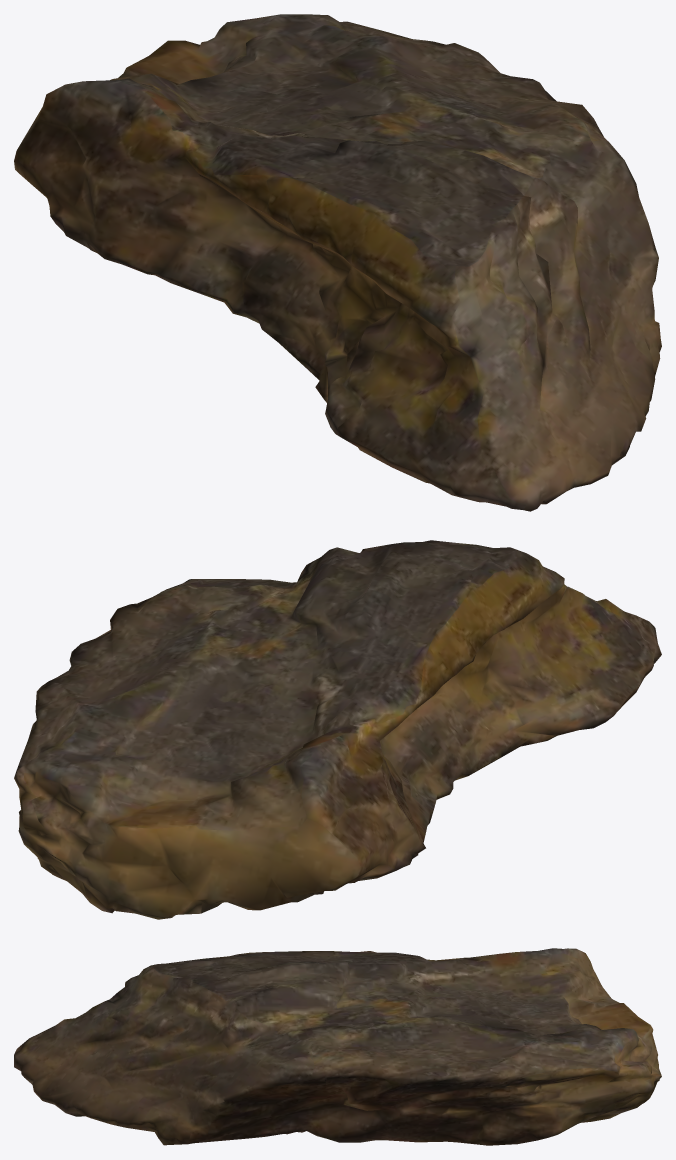
File: rock_09.glb
3 views of the same model, one above another, from view 1: azimuth 30°, elevation 25°; view 2: azimuth 150°, elevation 25°; view 3: azimuth 270°, elevation 25° (orthographic). The views are drawn at different scales.
Visible parts, largest first — view 1: rock_09_LOD0; view 2: rock_09_LOD0; view 3: rock_09_LOD0.
Part boxes in pixels (x1,y1,x2,y2): rock_09_LOD0: (14, 14, 661, 511); rock_09_LOD0: (14, 540, 661, 919); rock_09_LOD0: (14, 948, 661, 1145).
Size of the model in its own units: 0.074 by 0.0328 by 0.1446.
1 material, 1 textured.
